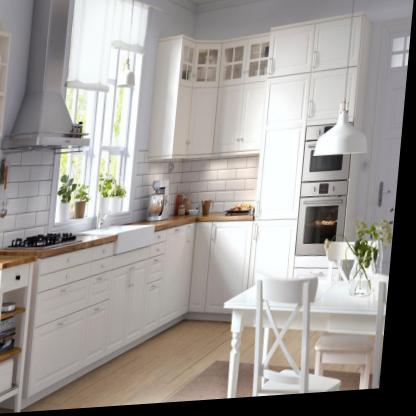Chair: (250, 265, 359, 401)
